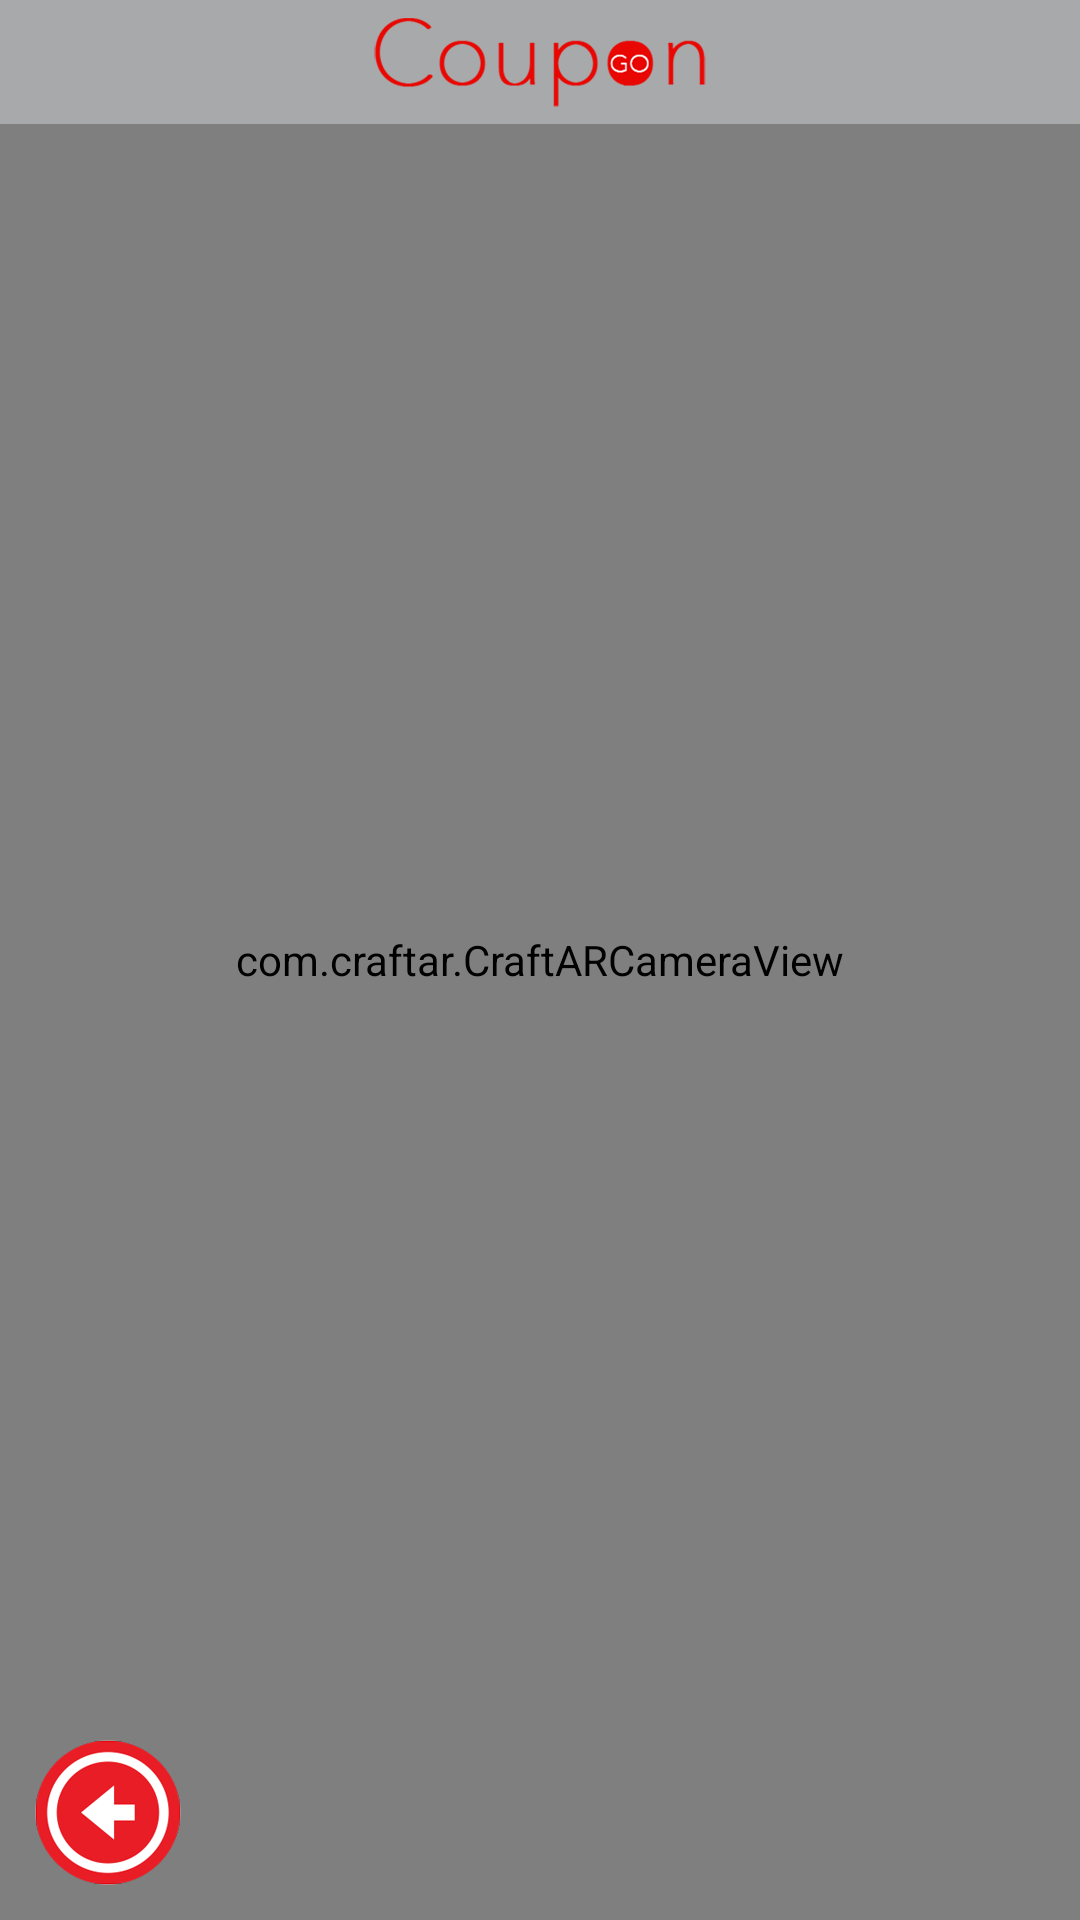

Icons on this 1080×1920 Android screen, each with its box as bbox(x1, y1, x2, y2):
back: bbox(35, 1740, 181, 1885)
